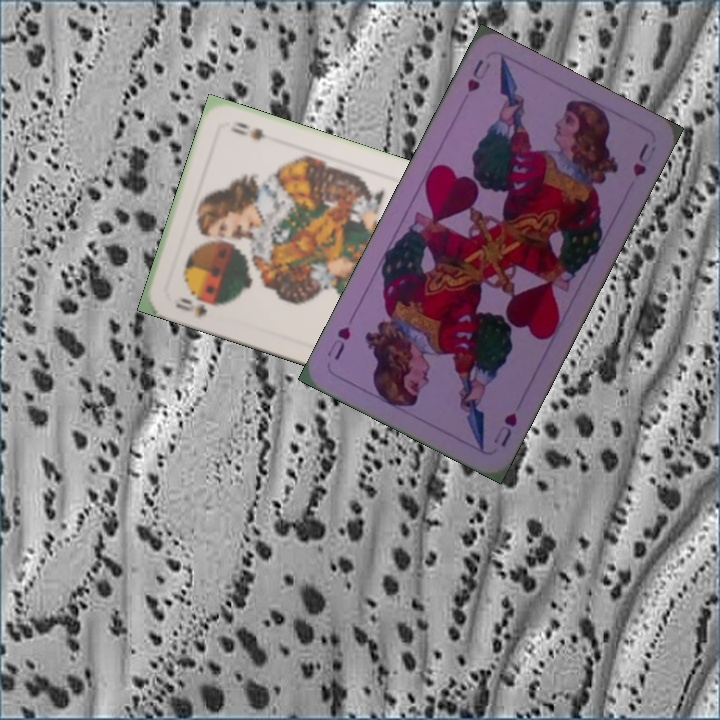HU: (489, 408, 520, 450), (463, 55, 494, 95)
SO: (171, 293, 210, 321)
